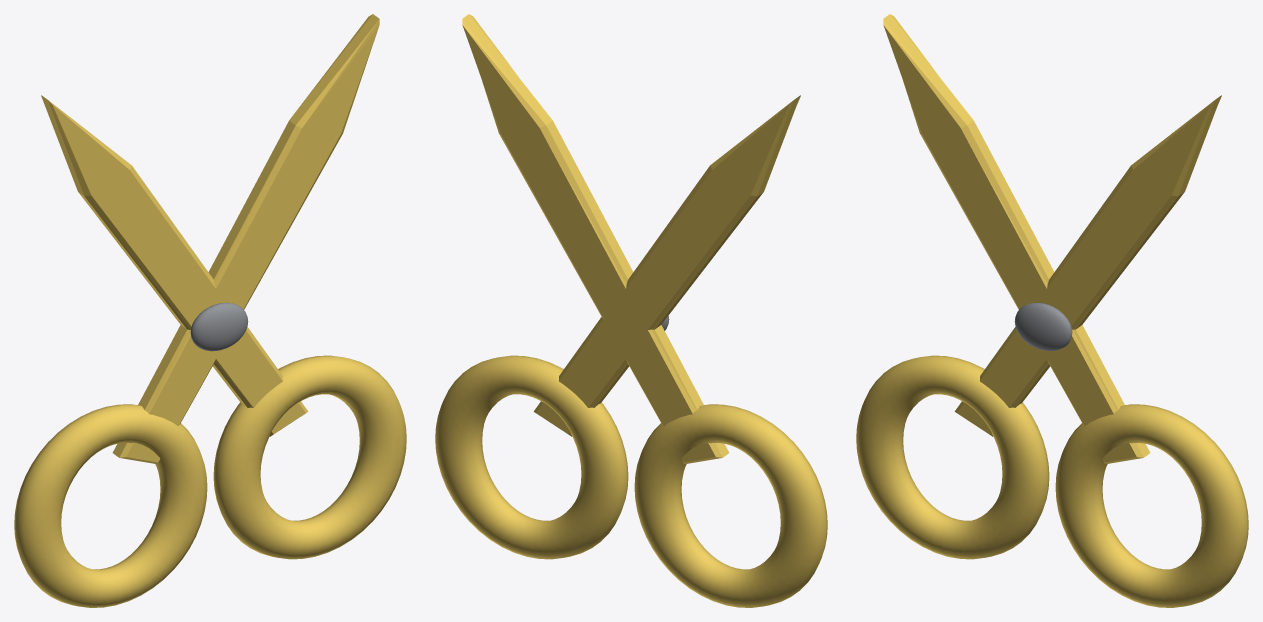
Rendered from atropos.glb.
3 renders of one model, left to right at view 1: azimuth 30°, elevation 25°; view 2: azimuth 150°, elevation 25°; view 3: azimuth 330°, elevation 25°, orthographic.
Size of the model in its own units: 21 by 27 by 2.29.
